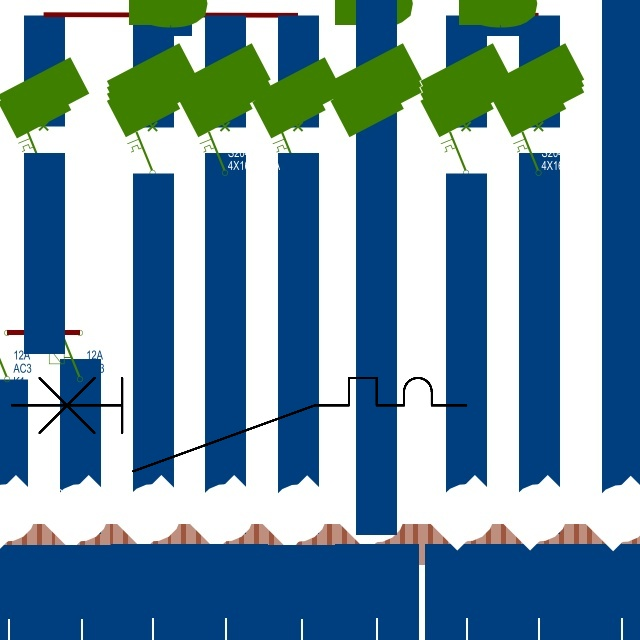interruptor_termomagnetico: (0, 366, 478, 483)
